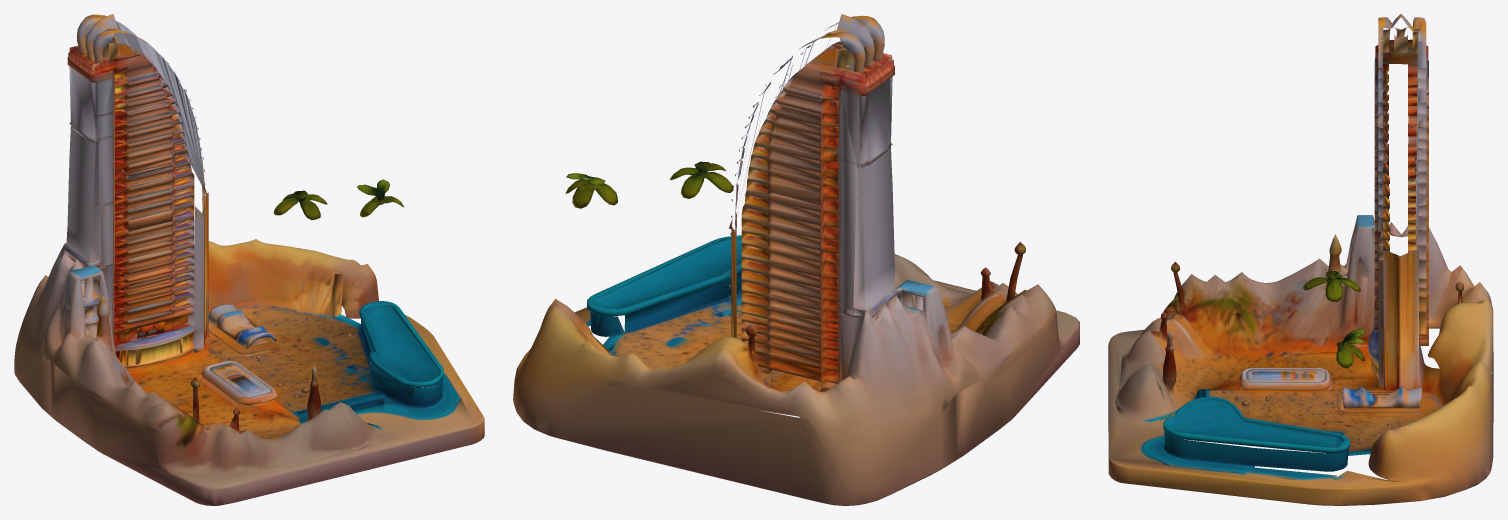
Rendered from hotel.glb.
3 renders of one model, left to right at view 1: azimuth 30°, elevation 25°; view 2: azimuth 150°, elevation 25°; view 3: azimuth 270°, elevation 25°, orthographic. The views are drawn at different scales.
Visible parts, largest first — view 1: tripo_node_e341ef2c; view 2: tripo_node_e341ef2c; view 3: tripo_node_e341ef2c.
Part boxes in pixels (<box>): tripo_node_e341ef2c: <box>14,14,484,505</box>; tripo_node_e341ef2c: <box>513,14,1079,505</box>; tripo_node_e341ef2c: <box>1108,14,1493,505</box>.
Size of the model in its own units: 1 by 0.9979 by 0.9713.
1 material, 1 textured.
